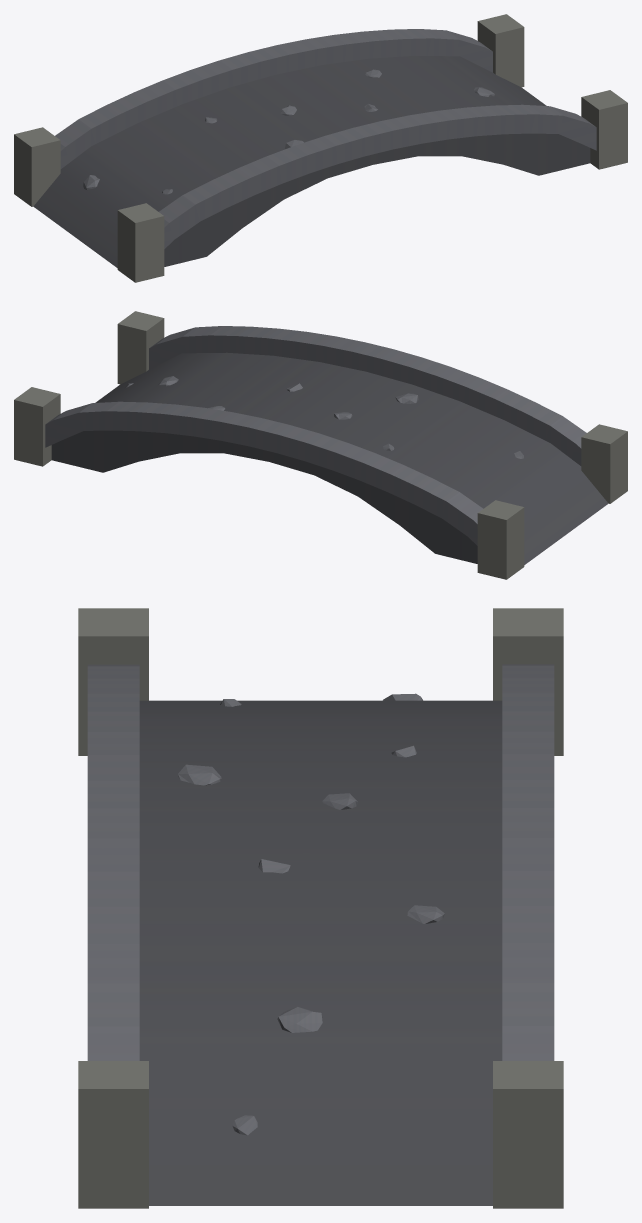
File: Bridge_3_LOD1.fbx
3 renders of one model, top to bottom at view 1: azimuth 30°, elevation 25°; view 2: azimuth 150°, elevation 25°; view 3: azimuth 270°, elevation 25°, orthographic. The views are drawn at different scales.
Visible parts, largest first — view 1: polySurface10302; view 2: polySurface10302; view 3: polySurface10302.
Part boxes in pixels (x1=…): polySurface10302: x1=14, y1=14, x2=627, y2=282; polySurface10302: x1=14, y1=311, x2=627, y2=579; polySurface10302: x1=78, y1=608, x2=563, y2=1208.
Size of the model in its own units: 1098 by 185 by 468.
